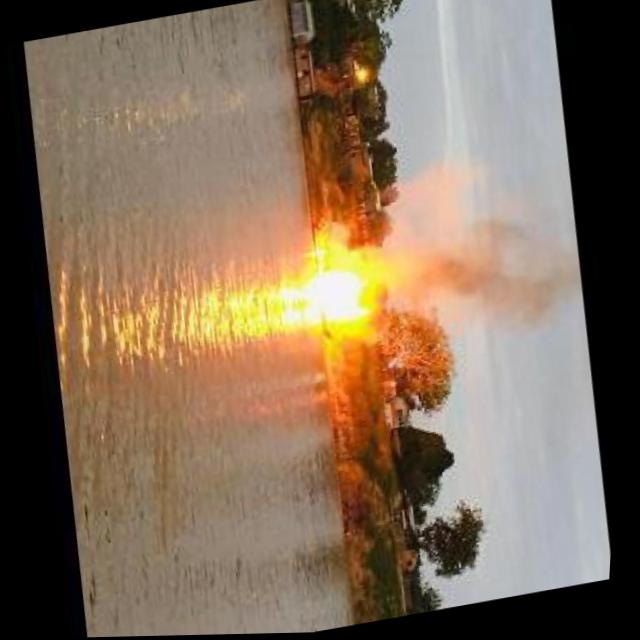Fire: (374, 194, 579, 356), (311, 231, 383, 335)
